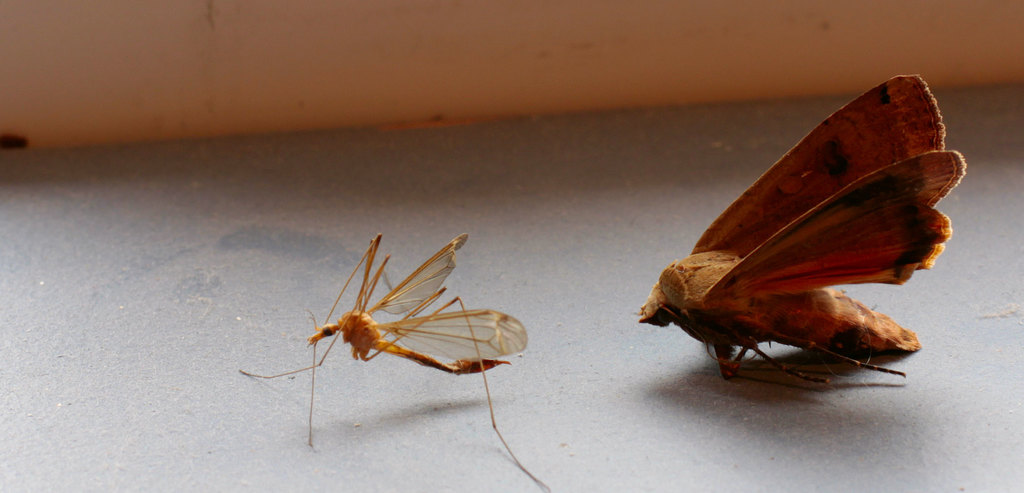Butterfly: (575, 53, 1017, 412)
